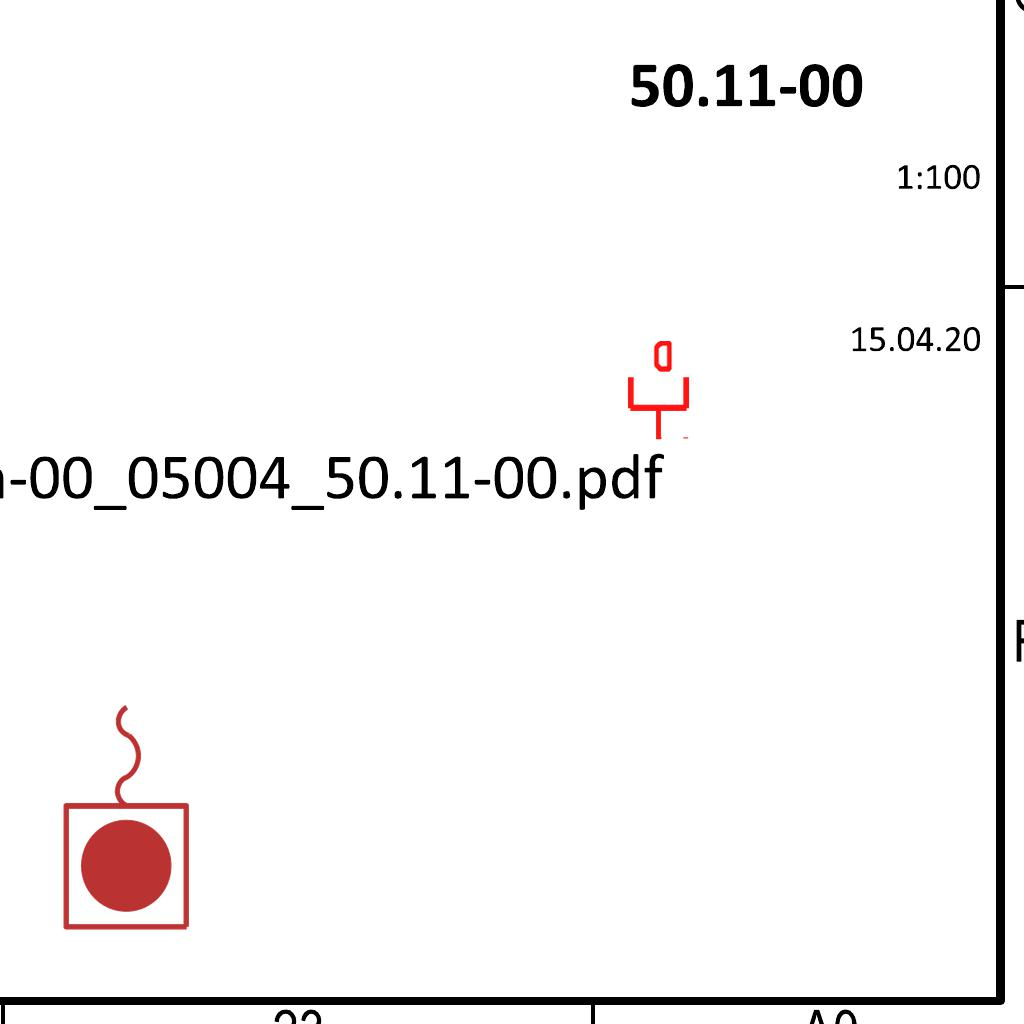Datenanschluss_einfach: (624, 341, 693, 441)
Zugtaster: (56, 694, 200, 938)
